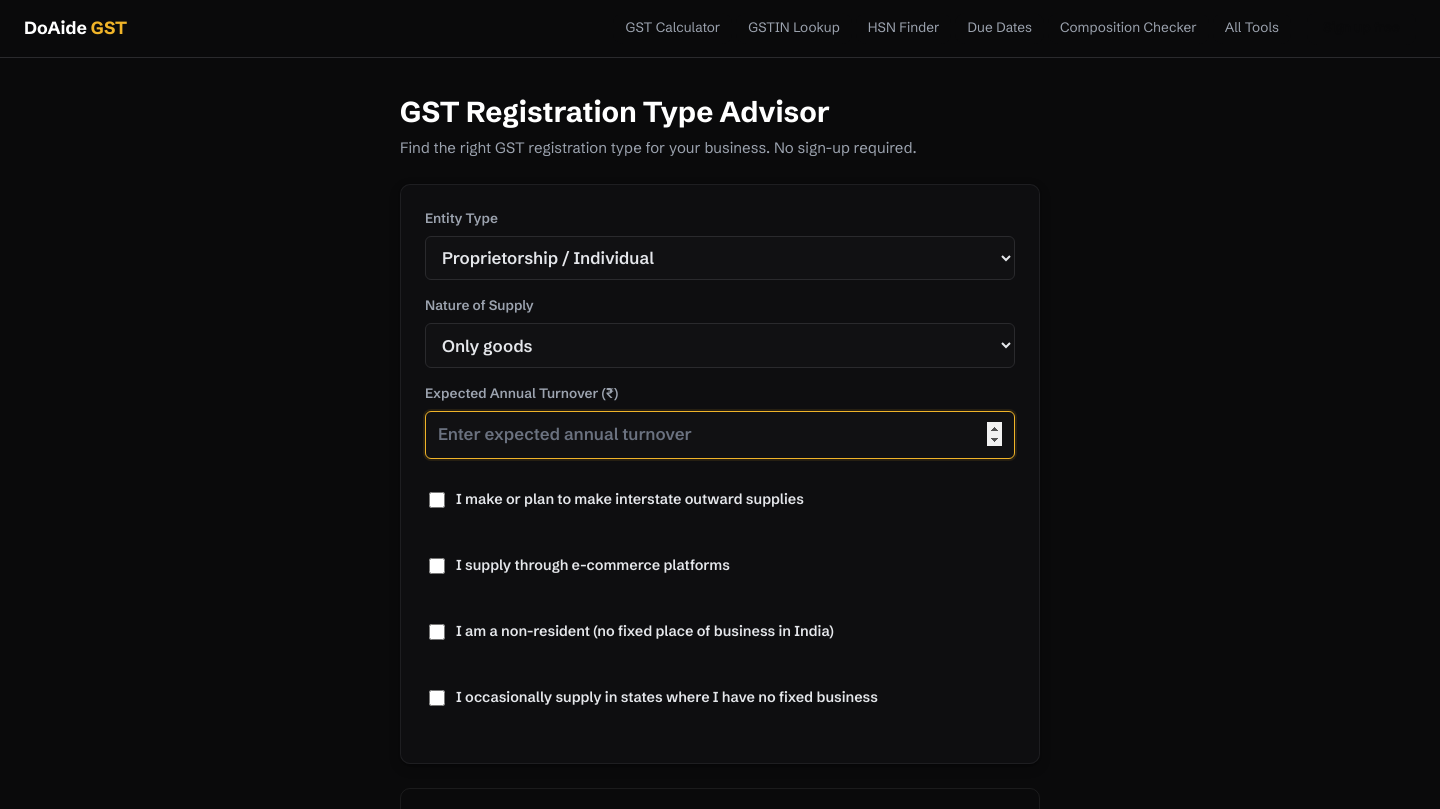
Test: RegistrationTypeAdvisorPage › shows Regular and Composition for small goods trader
The width and height of the screenshot is (1440, 809).
Type "5000000" into the number field with placeholder "Enter expected annual turnover" at (720, 435), box [425,411,1015,459]
(page scrolled)
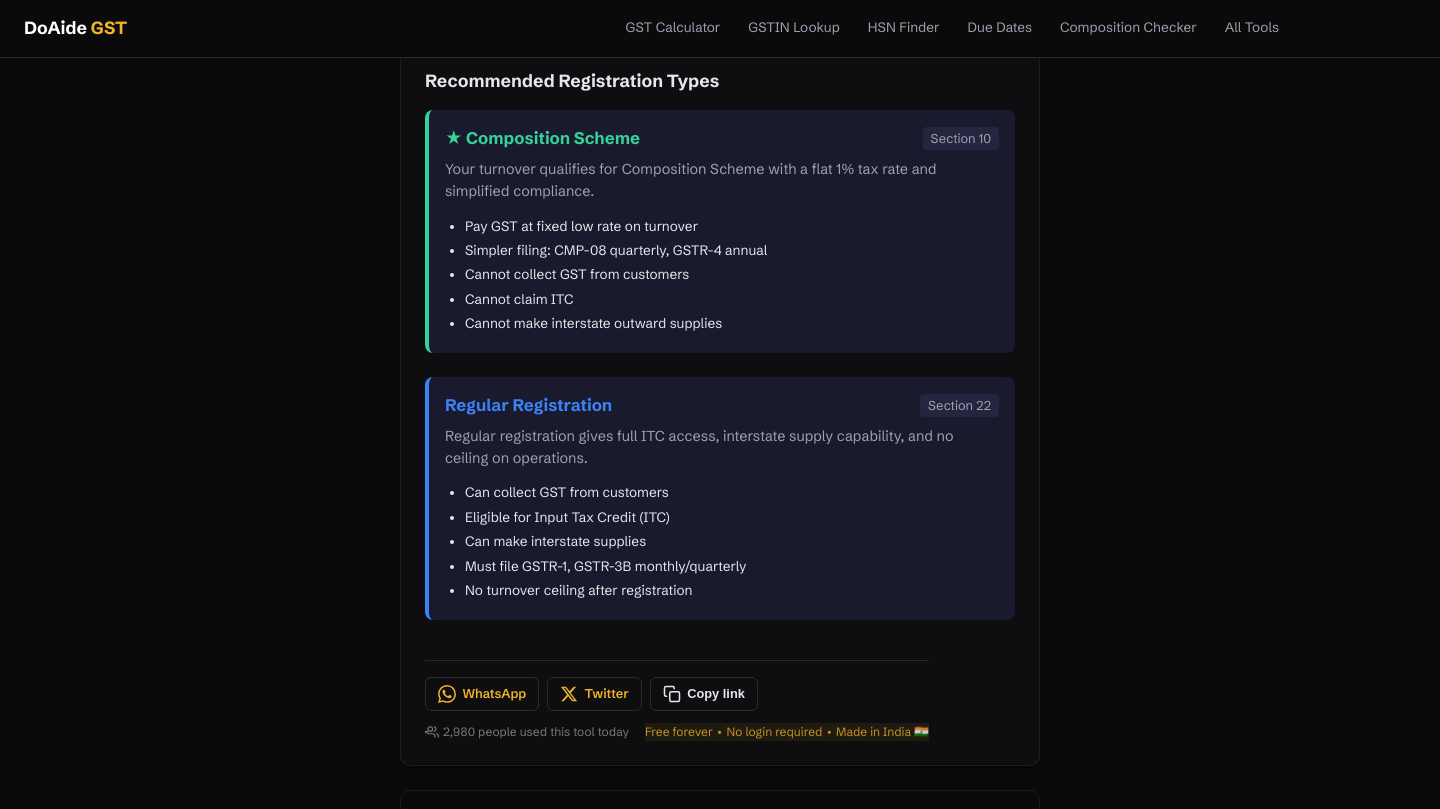
Expected: the heading "Recommended Registration Types" is shown, [425,70,719,92]
Expected: the text "Regular Registration" is shown, [445,393,612,418]
